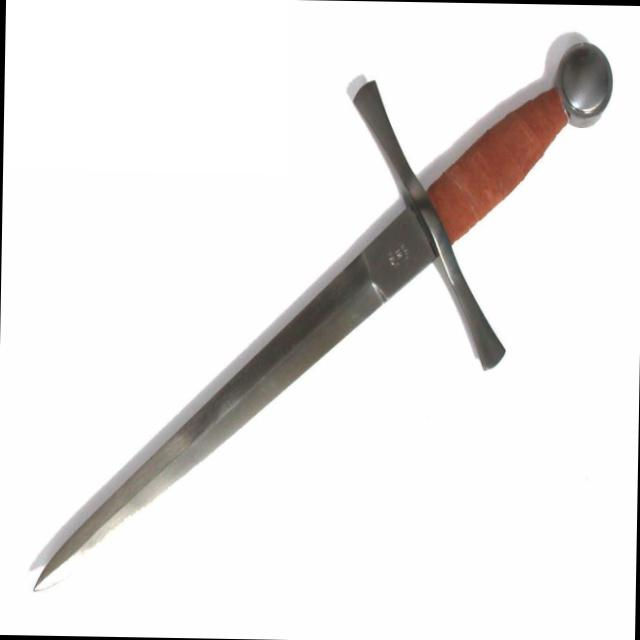Gun: (13, 19, 640, 605)
